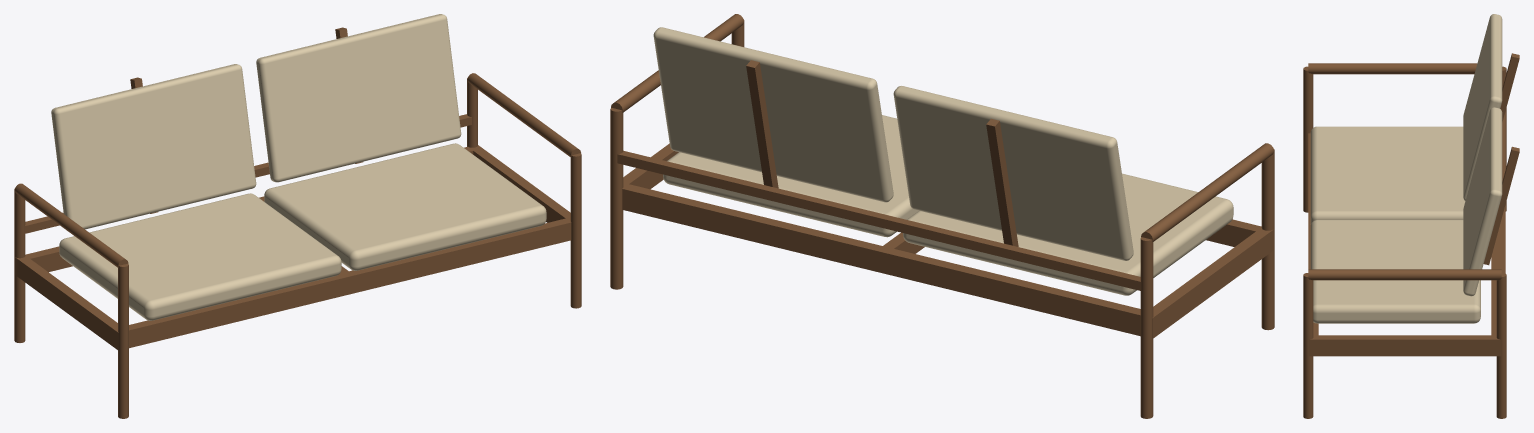
The model's file is variant.glb.
3 renders of one model, left to right at view 1: azimuth 30°, elevation 25°; view 2: azimuth 150°, elevation 25°; view 3: azimuth 270°, elevation 25°, orthographic. The views are drawn at different scales.
Visible parts, largest first — view 1: back-right, back-left, seat-right, seat-left, rail-front, rail-left, post-right-front, post-left-front, arm-right, arm-left, post-left-rear, rail-right (+3 smaller); view 2: back-left, back-right, rail-rear, seat-left, back-crossbar, seat-right, rail-left, post-left-rear, post-right-rear, arm-left, post-left-front, back-support-left (+5 smaller); view 3: seat-right, seat-left, back-right, rail-right, back-left, arm-right, arm-left, post-right-front, post-right-rear, post-left-front, back-support-right, back-crossbar (+4 smaller).
Boxes of the visible parts, left/top/right/bottom form: back-right: left=256, top=14, right=461, bottom=182; back-left: left=51, top=64, right=256, bottom=229; seat-right: left=264, top=143, right=546, bottom=270; seat-left: left=59, top=193, right=341, bottom=320; rail-front: left=129, top=217, right=571, bottom=348; rail-left: left=15, top=255, right=118, bottom=350; post-right-front: left=570, top=153, right=581, bottom=308; post-left-front: left=118, top=263, right=128, bottom=418; arm-right: left=467, top=73, right=580, bottom=157; arm-left: left=15, top=183, right=128, bottom=267; post-left-rear: left=14, top=188, right=25, bottom=342; rail-right: left=470, top=145, right=570, bottom=222; back-left: left=893, top=86, right=1133, bottom=260; back-right: left=653, top=27, right=893, bottom=202; rail-rear: left=622, top=184, right=1140, bottom=336; seat-left: left=903, top=173, right=1233, bottom=295; back-crossbar: left=617, top=150, right=1141, bottom=290; seat-right: left=663, top=115, right=918, bottom=237; rail-left: left=1152, top=227, right=1273, bottom=338; post-left-rear: left=1140, top=237, right=1153, bottom=418; post-right-rear: left=610, top=107, right=623, bottom=289; arm-left: left=1141, top=143, right=1273, bottom=241; post-left-front: left=1261, top=149, right=1274, bottom=330; back-support-left: left=986, top=118, right=1018, bottom=246; seat-right: left=1310, top=220, right=1480, bottom=323; seat-left: left=1310, top=126, right=1465, bottom=224; back-right: left=1463, top=107, right=1502, bottom=296; rail-right: left=1308, top=335, right=1501, bottom=356; back-left: left=1463, top=14, right=1502, bottom=200; arm-right: left=1308, top=269, right=1501, bottom=280; arm-left: left=1308, top=63, right=1477, bottom=74; post-right-front: left=1303, top=273, right=1313, bottom=418; post-right-rear: left=1496, top=273, right=1506, bottom=418; post-left-front: left=1303, top=66, right=1313, bottom=212; back-support-right: left=1483, top=146, right=1519, bottom=265; back-crossbar: left=1497, top=111, right=1505, bottom=273.
Bounding box in the file's own units: 2.17 × 1.02 × 0.9406.
